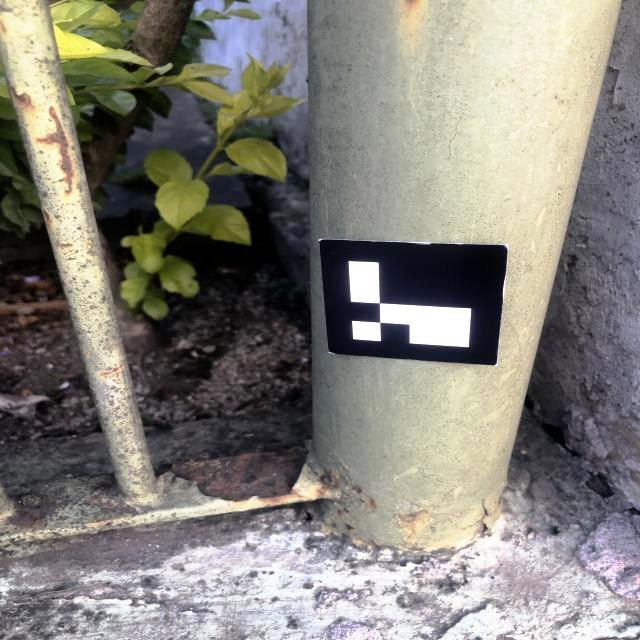Corrosion: (157, 444, 315, 503), (33, 100, 75, 196), (9, 499, 44, 527), (349, 483, 378, 510), (313, 470, 339, 497), (10, 84, 32, 107), (91, 488, 115, 507), (398, 508, 428, 522), (394, 0, 421, 9), (99, 365, 122, 375), (335, 507, 349, 516), (344, 522, 358, 531), (1, 19, 8, 32), (43, 209, 50, 221), (61, 242, 73, 247), (104, 521, 112, 526), (94, 519, 103, 523), (86, 242, 91, 247)
